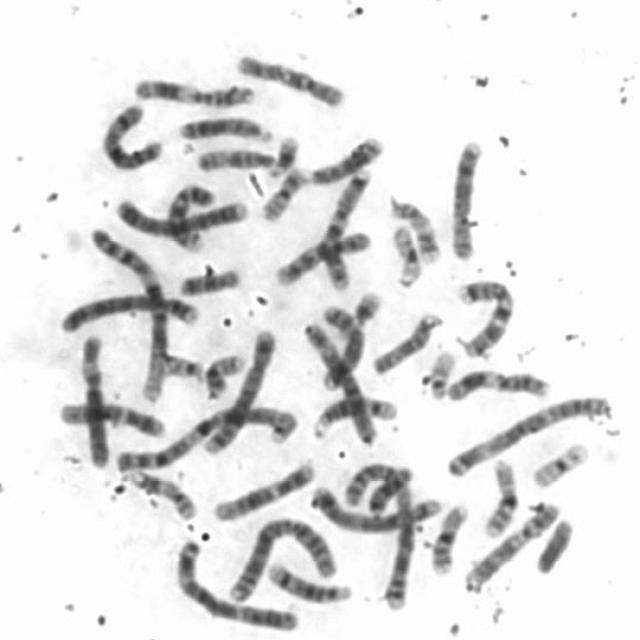A1: (86, 225, 170, 405), (110, 400, 299, 475)
A2: (345, 457, 418, 612), (223, 512, 341, 606)
A3: (441, 392, 614, 479), (168, 536, 302, 633)
B4: (110, 190, 251, 240), (56, 289, 204, 335)
B5: (199, 323, 280, 457), (306, 481, 442, 535)
C10: (231, 50, 346, 110), (269, 227, 373, 288)
C11: (129, 74, 256, 109), (442, 366, 551, 402)
C12: (210, 457, 318, 522), (55, 396, 167, 439)
C6: (300, 320, 380, 448), (77, 332, 109, 469)
C7: (314, 165, 373, 292), (452, 274, 516, 360)
C8: (446, 136, 486, 262), (319, 304, 367, 392)
C9: (460, 496, 563, 596), (162, 180, 216, 252)
D13: (303, 132, 384, 187), (174, 112, 274, 145)
D14: (308, 392, 398, 440), (263, 558, 352, 605)
D15: (368, 308, 444, 376), (192, 145, 280, 175)
E16: (478, 456, 519, 539), (427, 500, 469, 575)
E17: (126, 465, 198, 521), (389, 197, 442, 267)
E18: (173, 266, 241, 300), (367, 465, 412, 516)
F19: (530, 438, 592, 489), (388, 220, 426, 289)
F20: (258, 164, 310, 222), (203, 352, 245, 402)
G21: (263, 132, 301, 180), (346, 287, 384, 327)
G22: (426, 347, 456, 400), (159, 350, 204, 382)
X: (97, 101, 165, 173)
Y: (531, 514, 575, 575)
